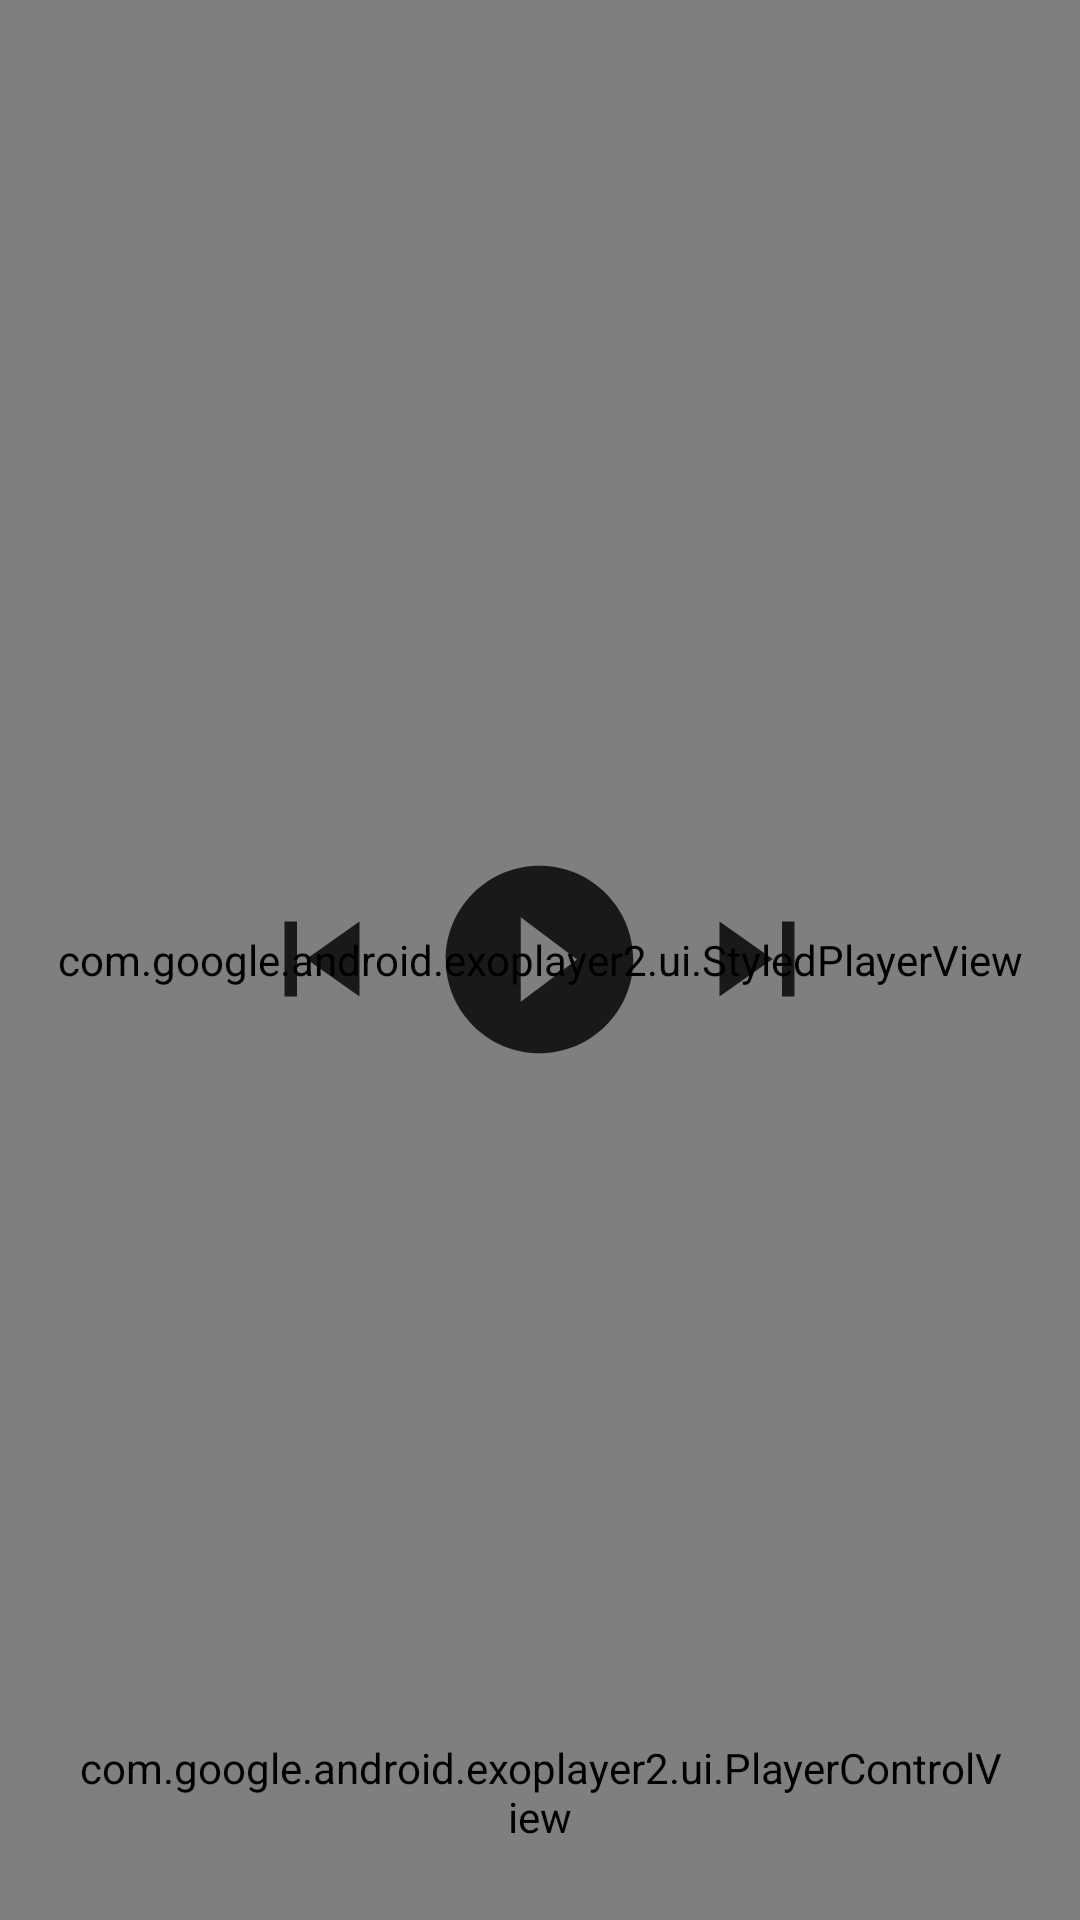

Named icons in this screenshot (1080 x 1920) and their bounding boxes, (x1, y1, x2, y2):
next: (684, 921, 814, 997)
previous: (251, 921, 397, 997)
